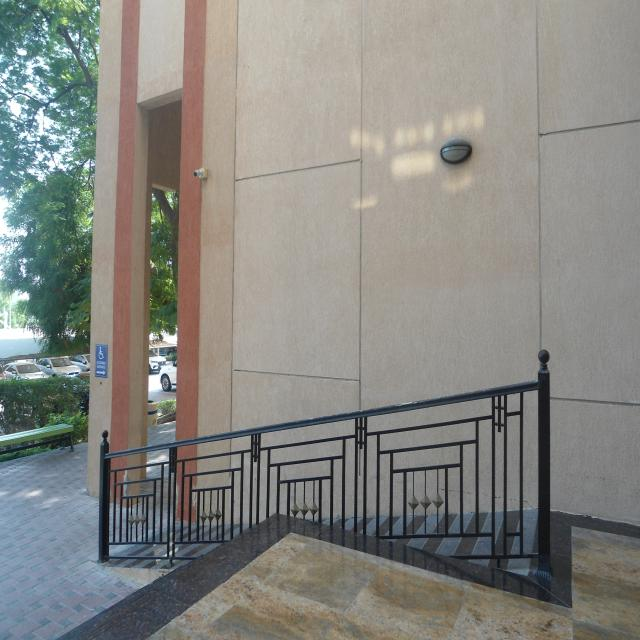car: (42, 352, 84, 386), (3, 354, 44, 388), (158, 352, 188, 393), (146, 344, 170, 378)
cctv: (190, 163, 212, 192)
pillar: (94, 0, 149, 514)
railing: (77, 344, 557, 566)
ramp: (102, 496, 558, 595)
tree-chair-bench-table-wall: (0, 0, 89, 342)
